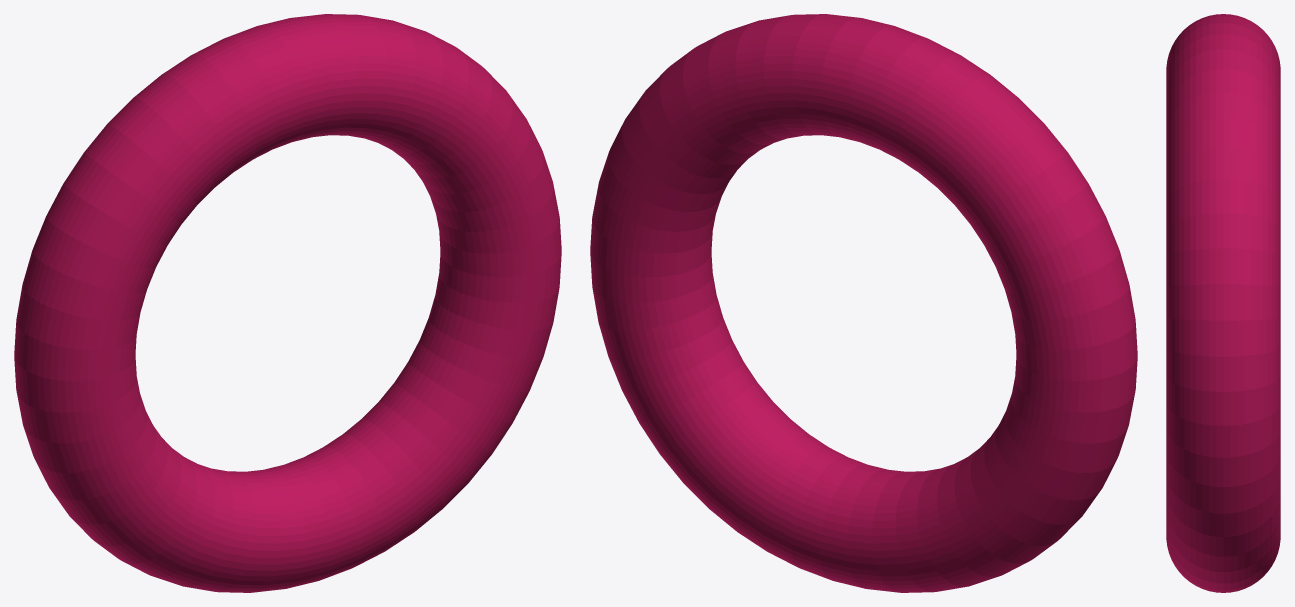
3 views of the same model, side by side, from view 1: azimuth 30°, elevation 25°; view 2: azimuth 150°, elevation 25°; view 3: azimuth 270°, elevation 25° (orthographic). The views are drawn at different scales.
Parts seen in each view (by area): view 1: world; view 2: world; view 3: world.
Boxes of the visible parts, <box> form: world: <box>14,14,561,592</box>; world: <box>590,14,1137,592</box>; world: <box>1166,14,1280,592</box>.
Bounding box in the file's own units: 35.73 × 35.66 × 7.05.
